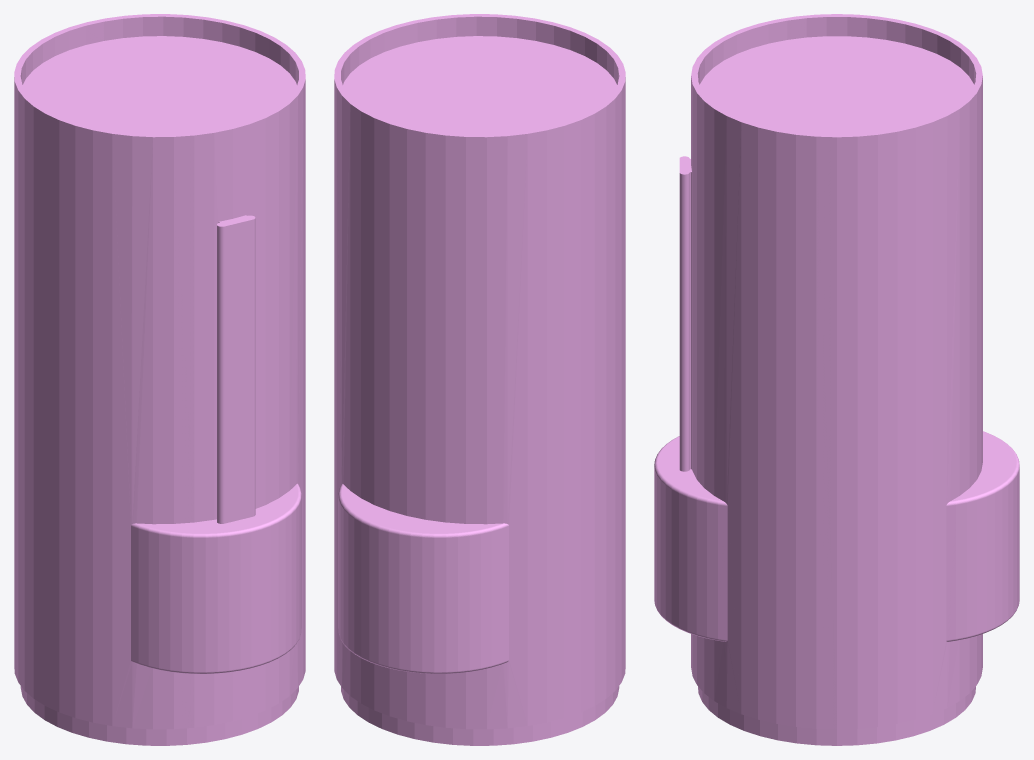
File: forearm_link.dae
The picture shows the model from 3 angles, left to right: view 1: azimuth 30°, elevation 25°; view 2: azimuth 150°, elevation 25°; view 3: azimuth 270°, elevation 25°; orthographic projection.
Parts seen in each view (by area): view 1: forearm_link; view 2: forearm_link; view 3: forearm_link.
Boxes of the visible parts, bbox=[...] form: forearm_link: bbox=[14, 14, 305, 745]; forearm_link: bbox=[334, 14, 625, 745]; forearm_link: bbox=[654, 14, 1019, 745].
Size of the model in its own units: 0.089 by 0.1115 by 0.2058.
